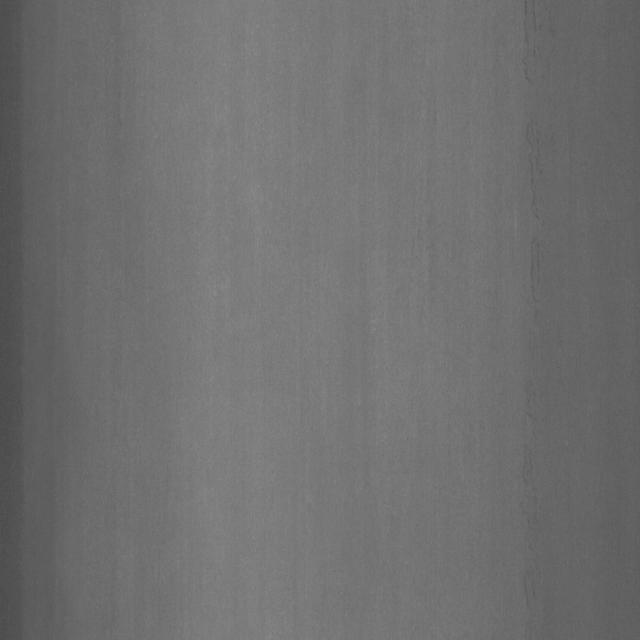inclusion: (502, 36, 570, 596)
